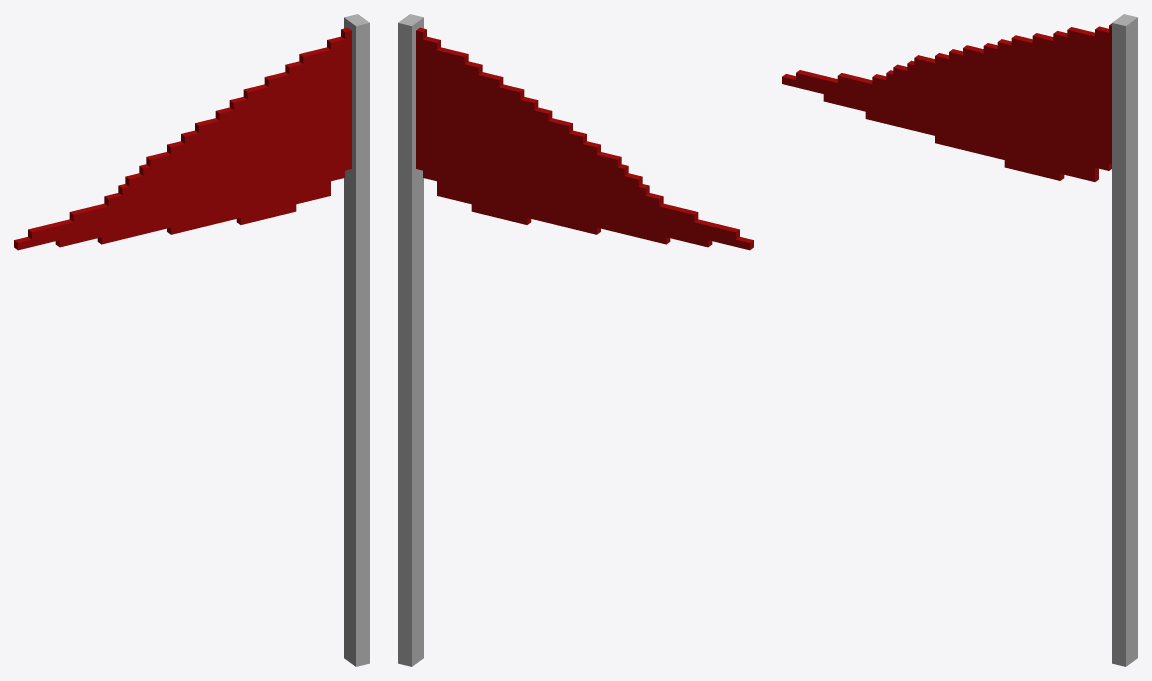
File: flag1.glb
3 views of the same model, side by side, from view 1: azimuth 30°, elevation 25°; view 2: azimuth 150°, elevation 25°; view 3: azimuth 330°, elevation 25° (orthographic).
Parts seen in each view (by area): view 1: Node1; view 2: Node1; view 3: Node1.
Part boxes in pixels (bbox=[...]): Node1: bbox=[14, 14, 369, 666]; Node1: bbox=[398, 14, 753, 666]; Node1: bbox=[782, 14, 1137, 666].
Size of the model in its own units: 5 by 8.8 by 0.3.
1 material, 1 textured.
